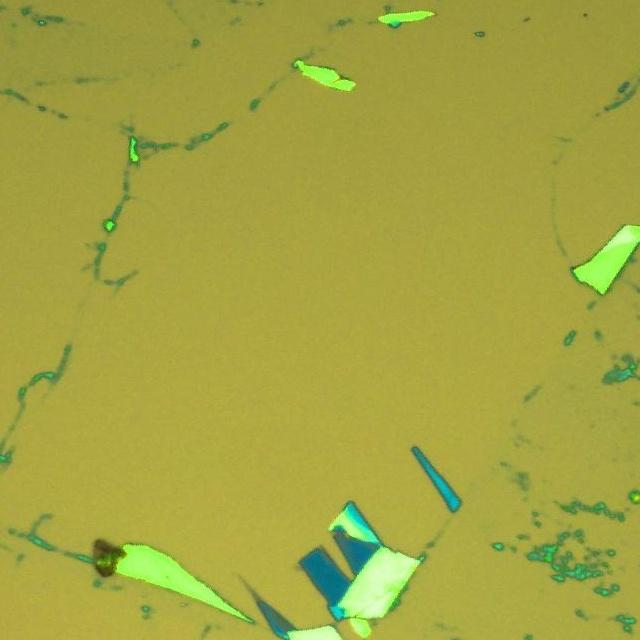monolayer-eWW4: (271, 613, 289, 632), (248, 586, 260, 602)
